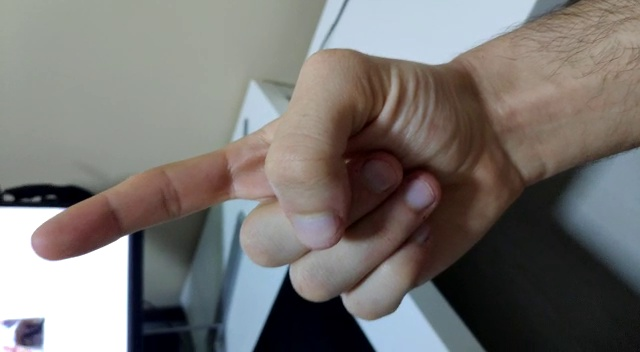One: (26, 1, 575, 345)
